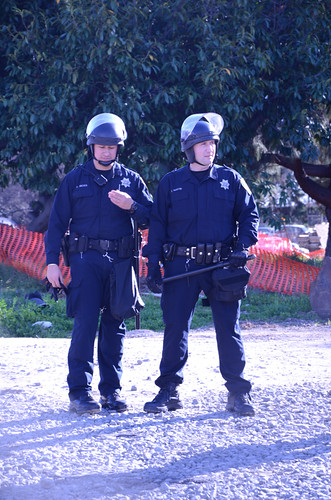building: (148, 116, 267, 419), (49, 116, 148, 413)
